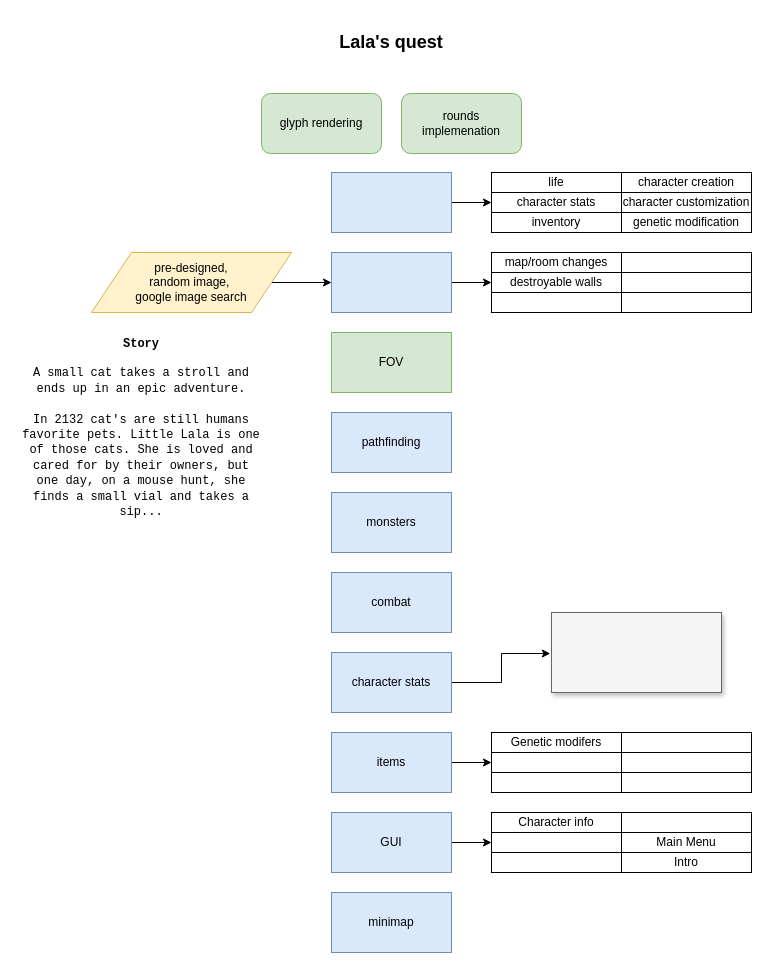
This 769x970 diagram has some shape labels left out. The shapes that lost their labels are listed below. From the top down, each one's centre as x and y in pixels, then its label:
[391,202]: character
[391,282]: maps
[637,654]: Character Stats --------------------- Life Visual Range
[556,762]: Weapons
[556,842]: Log
